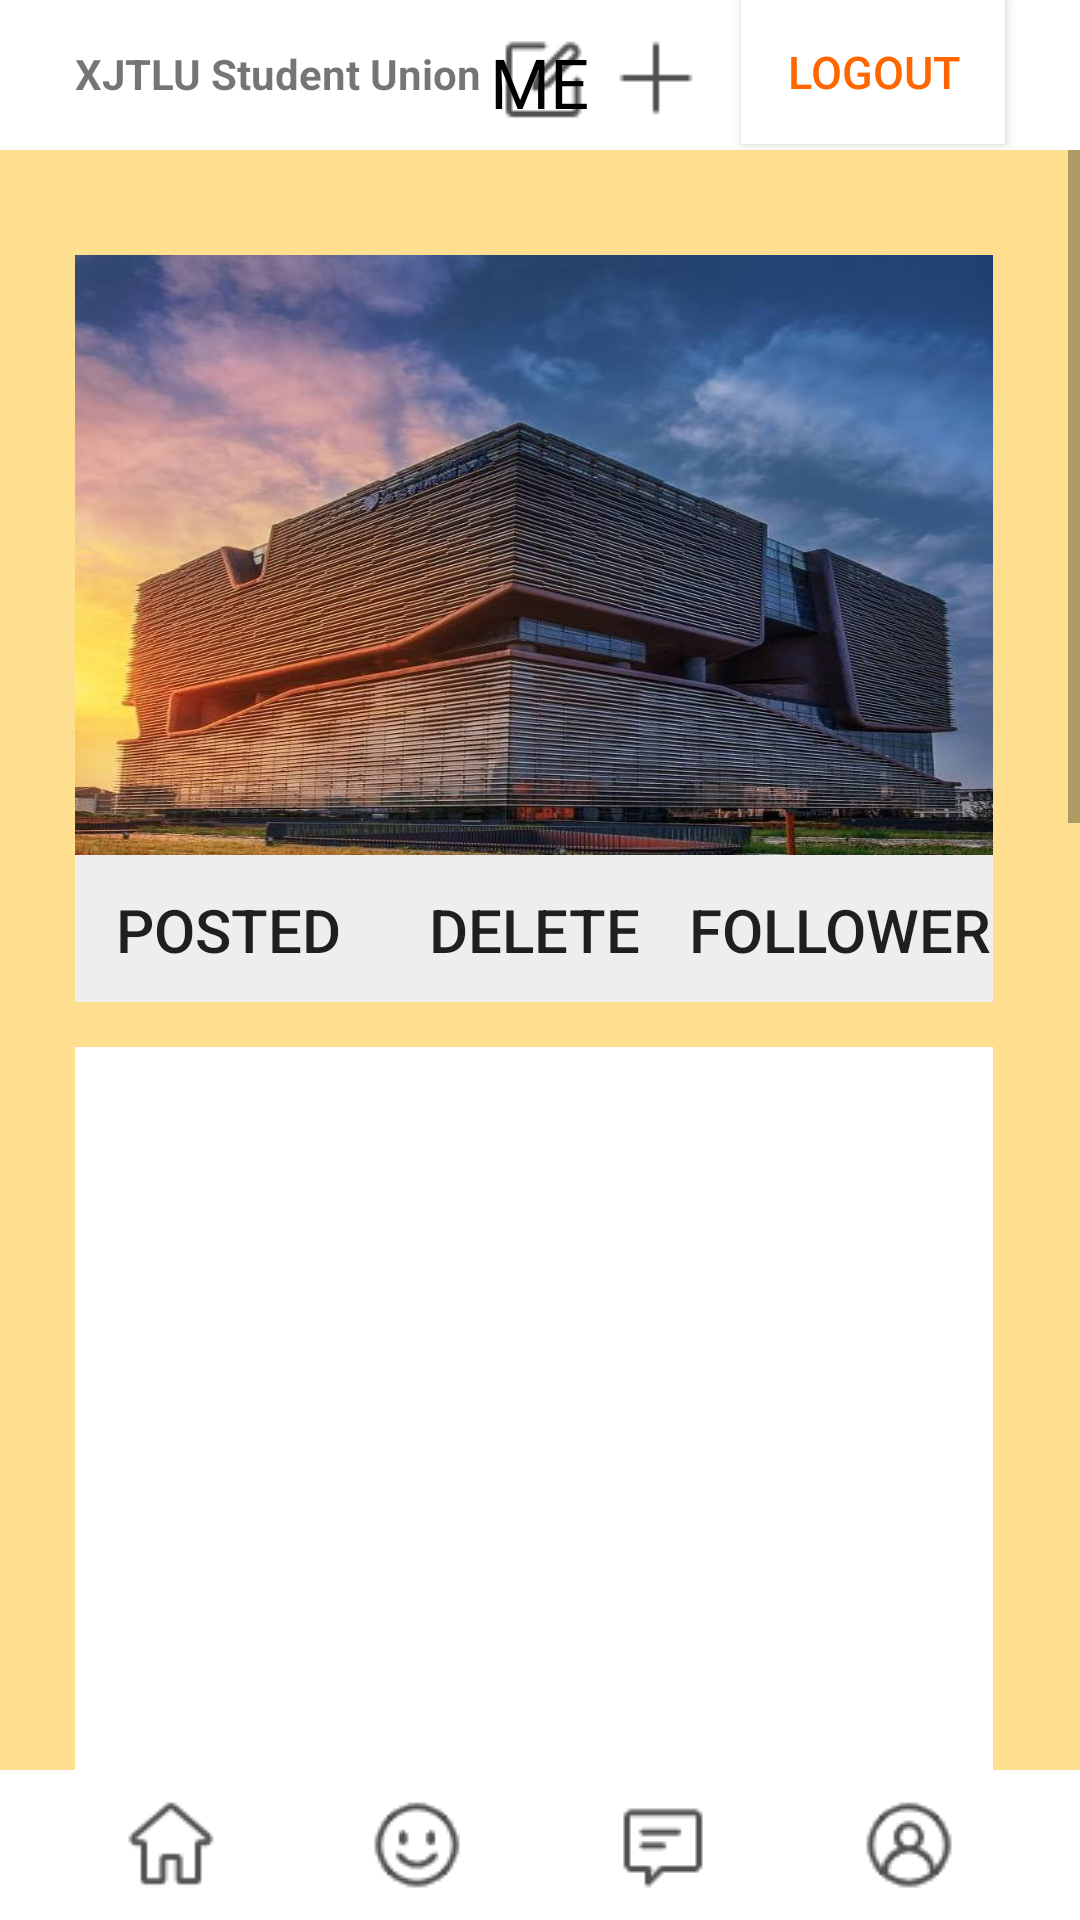

Screen size 1080px×1920px. Icon name, then its center in pixels as (x=x, y=y):
add: (x=656, y=78)
